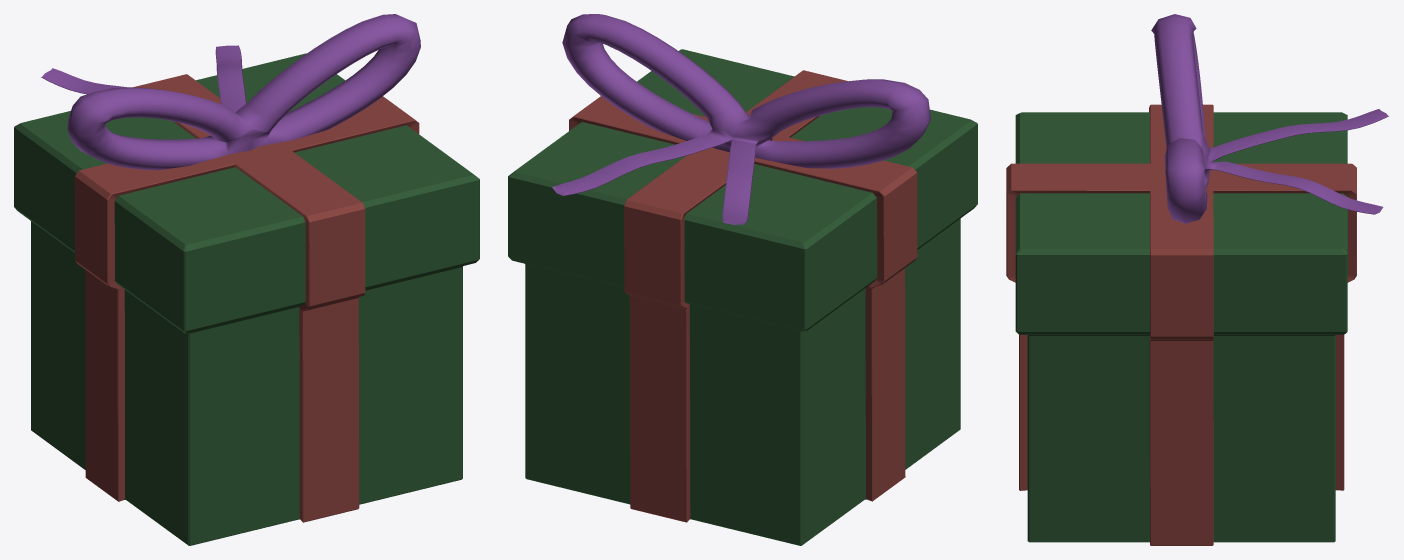
The model's file is PaquetFBX.fbx.
The picture shows the model from 3 angles, left to right: view 1: azimuth 30°, elevation 25°; view 2: azimuth 150°, elevation 25°; view 3: azimuth 270°, elevation 25°; orthographic projection. The views are drawn at different scales.
Visible parts, largest first — view 1: BasBoite, HautBoite, Ruban; view 2: BasBoite, HautBoite, Ruban; view 3: HautBoite, BasBoite, Ruban.
Boxes of the visible parts, <box> form: BasBoite: <box>31,221,462,545</box>; HautBoite: <box>14,53,479,333</box>; Ruban: <box>41,14,420,170</box>; BasBoite: <box>525,218,960,545</box>; HautBoite: <box>508,49,977,331</box>; Ruban: <box>552,14,930,224</box>; HautBoite: <box>1006,104,1356,340</box>; BasBoite: <box>1019,334,1344,545</box>; Ruban: <box>1151,14,1388,223</box>.
Size of the model in its own units: 7.55 by 8.15 by 7.26.
